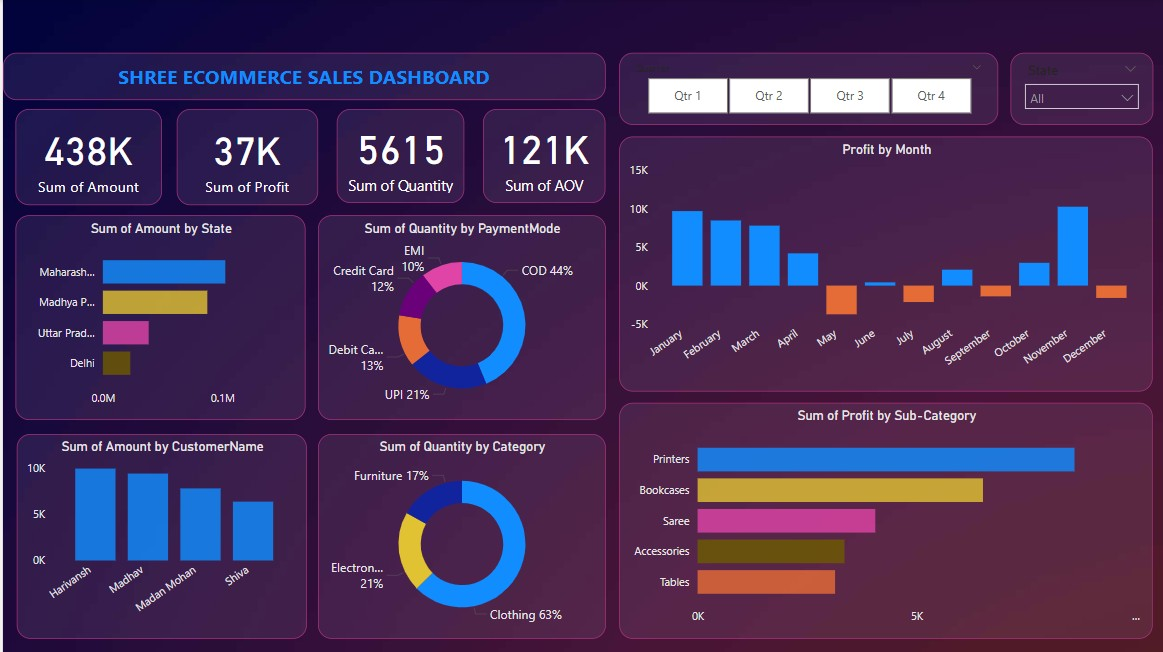

This screenshot's page, from the dashboard's own definition file:
{"tool":"powerbi","page":{"name":"Page 1","canvas":[1280,720],"ordinal":0},"visuals":[{"type":"textbox","box":[0,59,661.4,52.1],"z":0},{"type":"columnChart","title":" Profit by Month","fields":{"Category":["Orders.Order Date.Variation.Date Hierarchy.Month"],"Y":["Details.Profit"]},"box":[676.5,150.9,585.9,279.9],"z":1000},{"type":"barChart","fields":{"Category":["Details.Sub-Category"],"Y":["Details.Profit"]},"box":[676.5,443.2,585.9,259.3],"z":2000},{"type":"donutChart","fields":{"Category":["Details.PaymentMode","Details.Category"],"Y":["Details.Quantity"]},"box":[345.8,237.4,315.6,225],"z":3000},{"type":"donutChart","fields":{"Category":["Details.Category"],"Y":["Details.Quantity"]},"box":[345.8,477.5,315.6,225],"z":4000},{"type":"card","fields":{"Values":["Details.Amount"]},"box":[13.7,120.8,160.5,105.7],"z":5000},{"type":"card","fields":{"Values":["Details.Quantity"]},"box":[366.4,120.8,140,102.9],"z":6000},{"type":"card","fields":{"Values":["Details.Profit"]},"box":[190.7,120.8,155.1,105.7],"z":7000},{"type":"card","fields":{"Values":["Details.AOV"]},"box":[526.9,120.8,134.5,102.9],"z":8000},{"type":"clusteredBarChart","fields":{"Category":["Orders.State"],"Y":["Details.Amount"]},"box":[13.7,237.4,318.4,225],"z":9000},{"type":"columnChart","fields":{"Category":["Orders.CustomerName"],"Y":["Details.Amount"]},"box":[15.1,477.5,318.4,225],"z":10000},{"type":"slicer","fields":{"Values":["Orders.Order Date.Variation.Date Hierarchy.Quarter"]},"box":[676.5,59,415.8,79.6],"z":11000},{"type":"slicer","fields":{"Values":["Orders.State"]},"box":[1106,59,156.4,79.6],"z":12000}]}

Visuals, with their boxes in screenshot pixels (x1, y1, x2, y2), scaled from the page's 1280x720 canvas onto the 1163x652 screenshot:
textbox: (0, 53, 601, 101)
" Profit by Month" columnChart: (615, 137, 1147, 390)
barChart - Details.Sub-Category x Details.Profit: (615, 401, 1147, 636)
donutChart - Details.PaymentMode x Details.Category: (314, 215, 601, 419)
donutChart - Details.Category x Details.Quantity: (314, 432, 601, 636)
card - Details.Amount: (12, 109, 158, 205)
card - Details.Quantity: (333, 109, 460, 203)
card - Details.Profit: (173, 109, 314, 205)
card - Details.AOV: (479, 109, 601, 203)
clusteredBarChart - Orders.State x Details.Amount: (12, 215, 302, 419)
columnChart - Orders.CustomerName x Details.Amount: (14, 432, 303, 636)
slicer - Orders.Order Date.Variation.Date Hierarchy.Quarter: (615, 53, 992, 126)
slicer - Orders.State: (1005, 53, 1147, 126)
